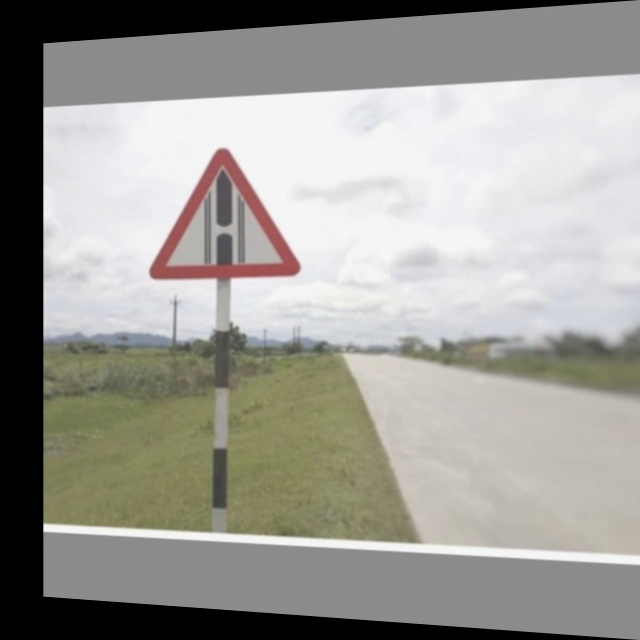Gap_in_Median: (149, 141, 306, 282)
